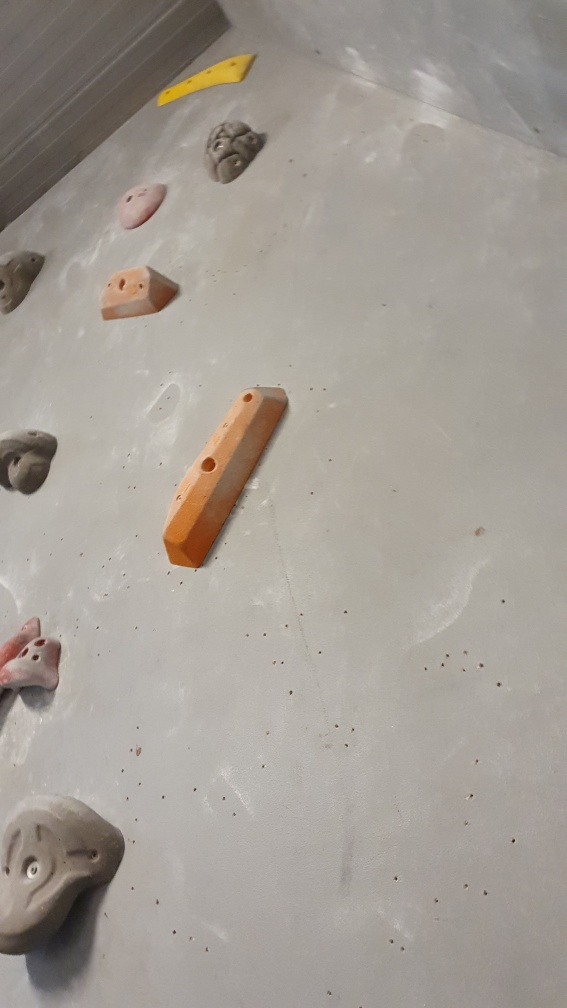Jug: (200, 118, 267, 187)
Pinch: (159, 379, 294, 572), (93, 261, 181, 324)
